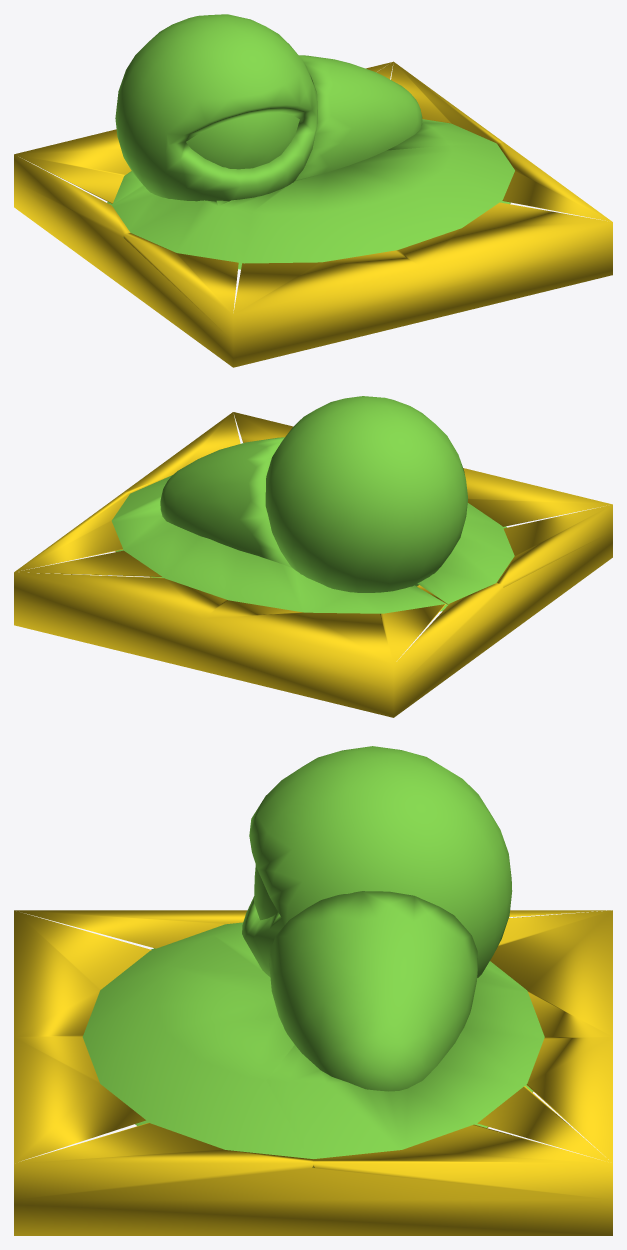
The model's file is baby_8.glb.
3 renders of one model, top to bottom at view 1: azimuth 30°, elevation 25°; view 2: azimuth 150°, elevation 25°; view 3: azimuth 270°, elevation 25°, orthographic. The views are drawn at different scales.
Visible parts, largest first — view 1: figura, basetta; view 2: basetta, figura; view 3: figura, basetta.
Part boxes in pixels (bbox=[...]): figura: bbox=[107, 14, 514, 269]; basetta: bbox=[14, 61, 612, 367]; basetta: bbox=[14, 412, 612, 717]; figura: bbox=[111, 396, 514, 613]; figura: bbox=[82, 746, 544, 1167]; basetta: bbox=[14, 910, 612, 1235].
Bounding box in the file's own units: 0.015 × 0.0083 × 0.015.
